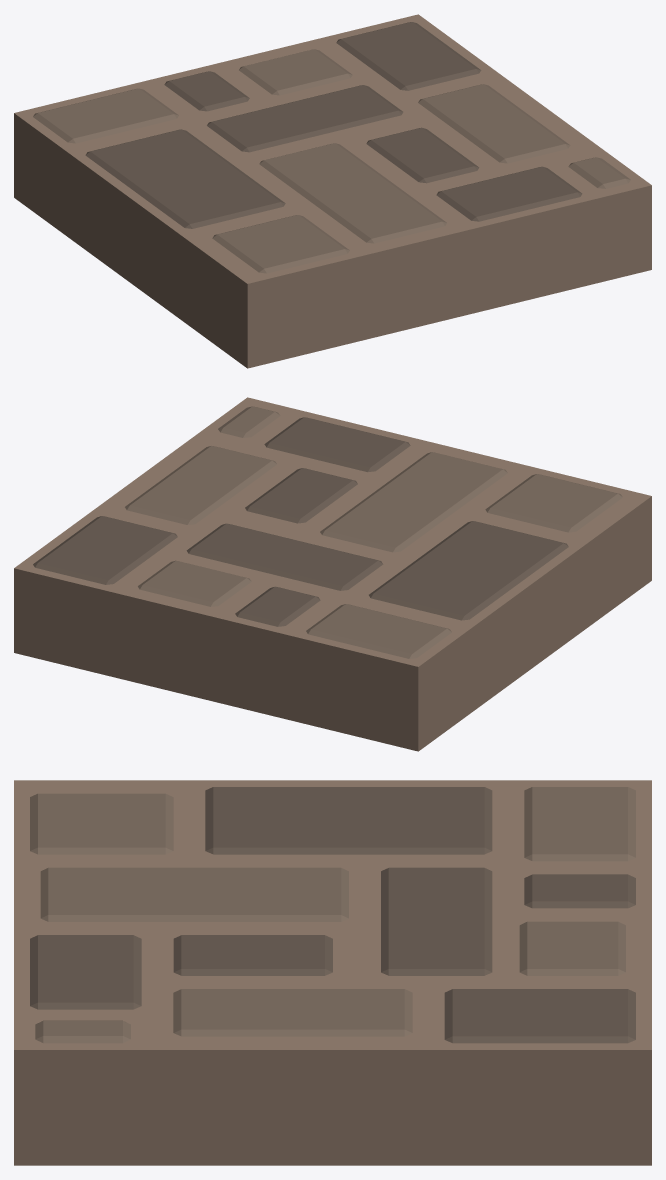
File: Stone_Floor_2.obj
3 views of the same model, one above another, from view 1: azimuth 30°, elevation 25°; view 2: azimuth 150°, elevation 25°; view 3: azimuth 270°, elevation 25° (orthographic). The views are drawn at different scales.
Visible parts, largest first — view 1: object1; view 2: object1; view 3: object1.
Boxes of the visible parts, bbox=[...] form: object1: bbox=[14, 14, 651, 368]; object1: bbox=[14, 397, 651, 751]; object1: bbox=[14, 780, 651, 1165].
Bounding box in the file's own units: 1 × 0.2063 × 1.
